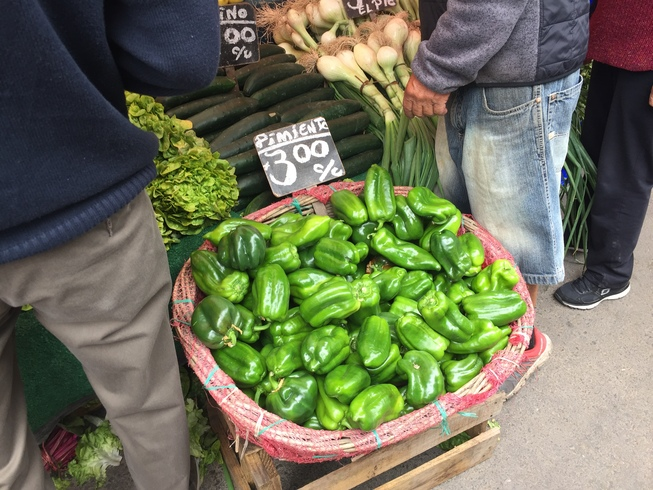precio: (257, 117, 353, 206), (208, 1, 262, 64), (336, 1, 409, 21)
